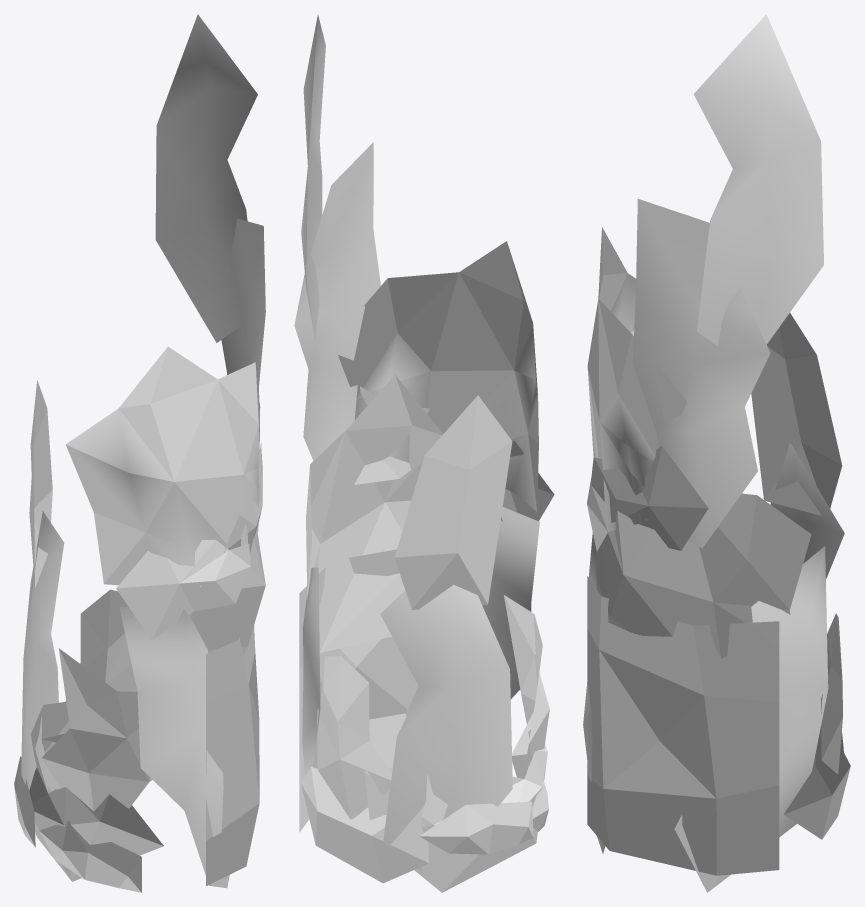
File: SM_Env_Ivy_Pillar_04.glb
The picture shows the model from 3 angles, left to right: view 1: azimuth 30°, elevation 25°; view 2: azimuth 150°, elevation 25°; view 3: azimuth 270°, elevation 25°; orthographic projection. The views are drawn at different scales.
Visible parts, largest first — view 1: SM_Env_Ivy_Pillar_04; view 2: SM_Env_Ivy_Pillar_04; view 3: SM_Env_Ivy_Pillar_04.
Boxes of the visible parts, <box> form: SM_Env_Ivy_Pillar_04: <box>14,14,265,892</box>; SM_Env_Ivy_Pillar_04: <box>294,15,554,892</box>; SM_Env_Ivy_Pillar_04: <box>583,14,850,892</box>.
Bounding box in the file's own units: 1.67 × 5.71 × 1.59.
Materials: 1 (1 with a texture image).
